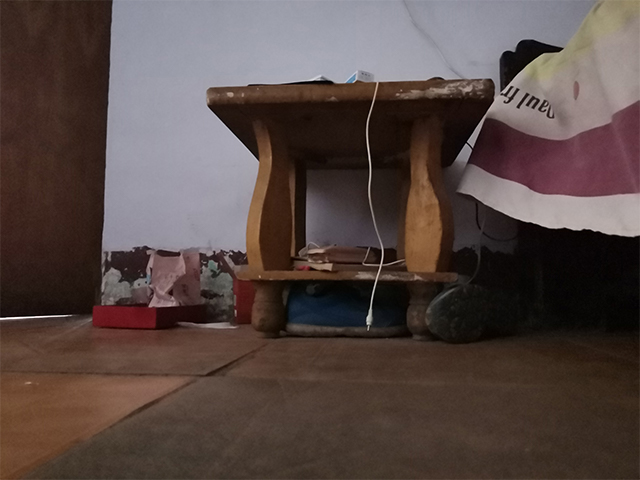table: (205, 73, 497, 341)
wire: (360, 79, 407, 333)
